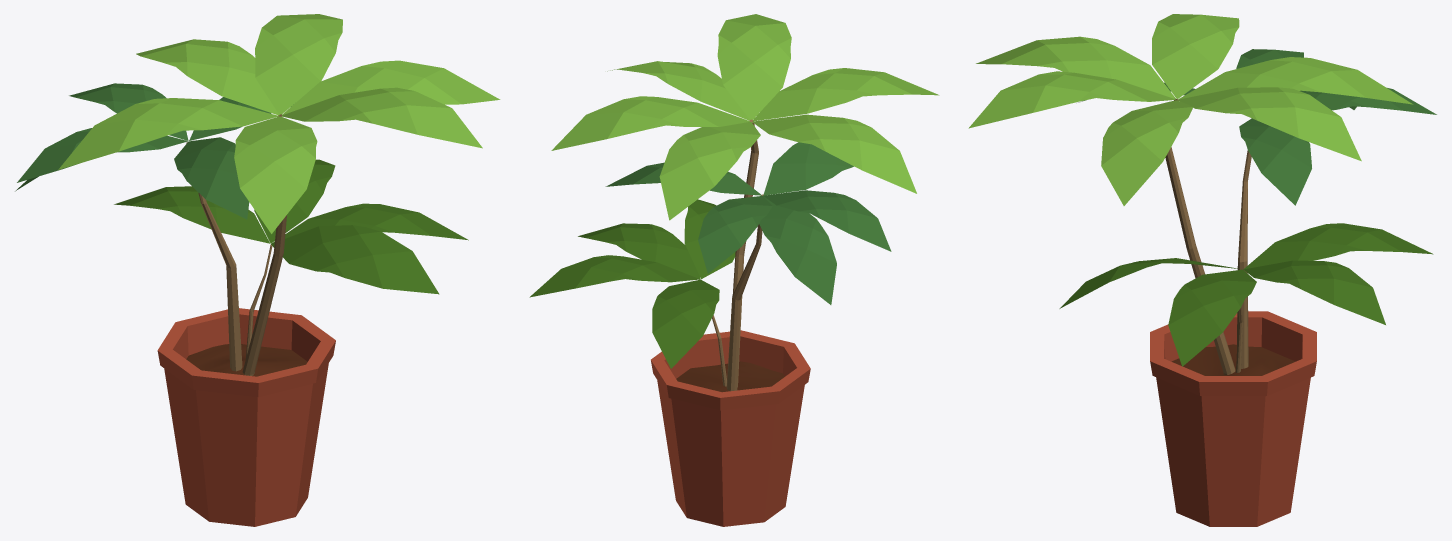
The model's file is plantcik.fbx.
3 views of the same model, side by side, from view 1: azimuth 30°, elevation 25°; view 2: azimuth 150°, elevation 25°; view 3: azimuth 270°, elevation 25° (orthographic). The views are drawn at different scales.
Parts seen in each view (by area): view 1: leaf.004, pot, leaf.003, leaf.014, tige.001, tige.002; view 2: leaf.004, pot, leaf.014, leaf.003, tige.001, tige.002; view 3: leaf.004, pot, leaf.003, leaf.014, tige.002, tige.001.
Boxes of the visible parts, bbox=[...] form: leaf.004: bbox=[58, 14, 500, 233]; pot: bbox=[157, 308, 335, 526]; leaf.003: bbox=[114, 159, 468, 294]; leaf.014: bbox=[15, 83, 293, 219]; tige.001: bbox=[186, 142, 242, 371]; tige.002: bbox=[242, 114, 286, 375]; leaf.004: bbox=[551, 14, 939, 220]; pot: bbox=[651, 330, 810, 526]; leaf.014: bbox=[605, 142, 891, 304]; leaf.003: bbox=[529, 199, 735, 368]; tige.001: bbox=[726, 194, 763, 391]; tige.002: bbox=[732, 119, 758, 386]; leaf.004: bbox=[968, 14, 1413, 205]; pot: bbox=[1150, 311, 1316, 526]; leaf.003: bbox=[1059, 223, 1433, 366]; leaf.014: bbox=[1078, 49, 1436, 205]; tige.002: bbox=[1165, 98, 1235, 374]; tige.001: bbox=[1236, 150, 1251, 368].
Bounding box in the file's own units: 514 × 545 × 516.
